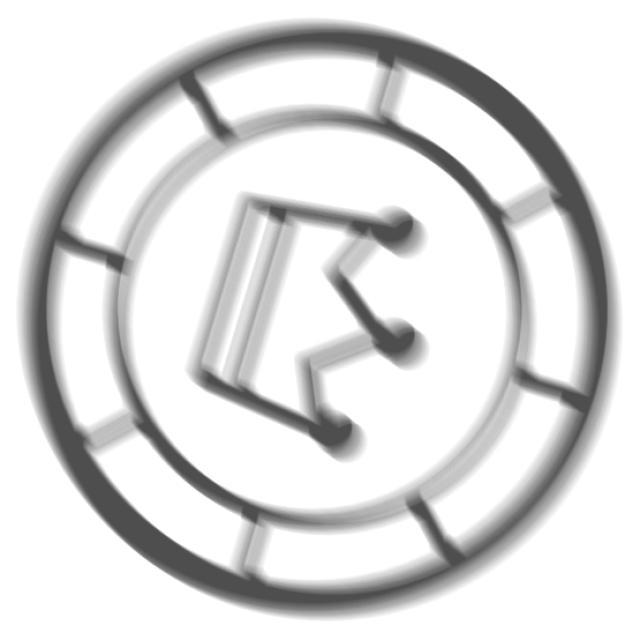coin: (15, 15, 626, 631)
